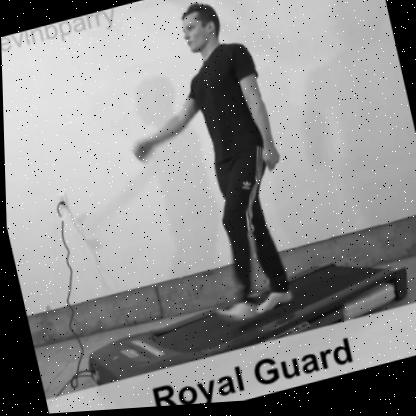person: (140, 0, 316, 323)
